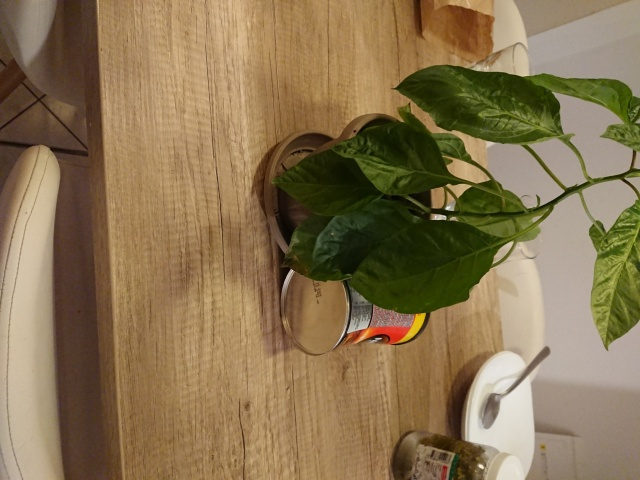Nescafe Classic 225g: (276, 254, 434, 359)
